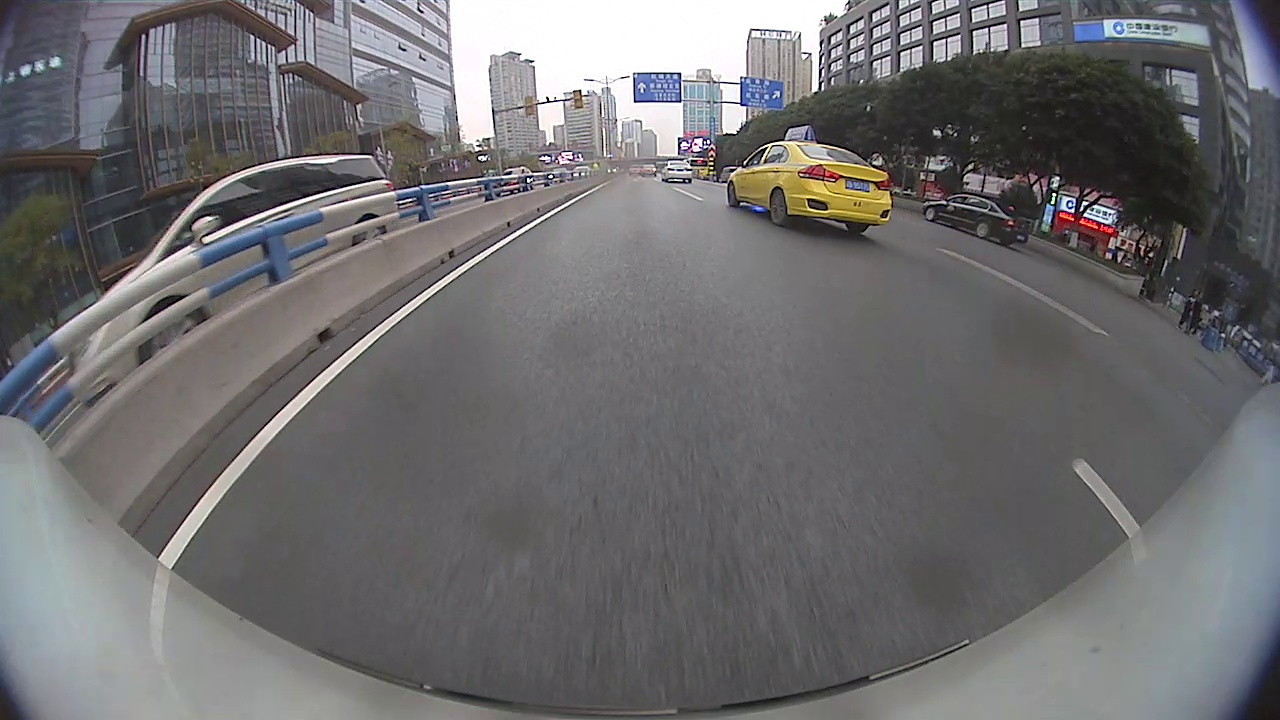car: (62, 149, 403, 412), (723, 123, 896, 238), (918, 192, 1020, 247)
front: (133, 299, 208, 360), (726, 181, 740, 209), (925, 208, 937, 222)
person: (1192, 288, 1203, 337), (1183, 294, 1195, 332)
rear: (354, 216, 386, 243), (770, 185, 789, 227), (976, 222, 990, 241)
rider: (1006, 205, 1030, 246)
